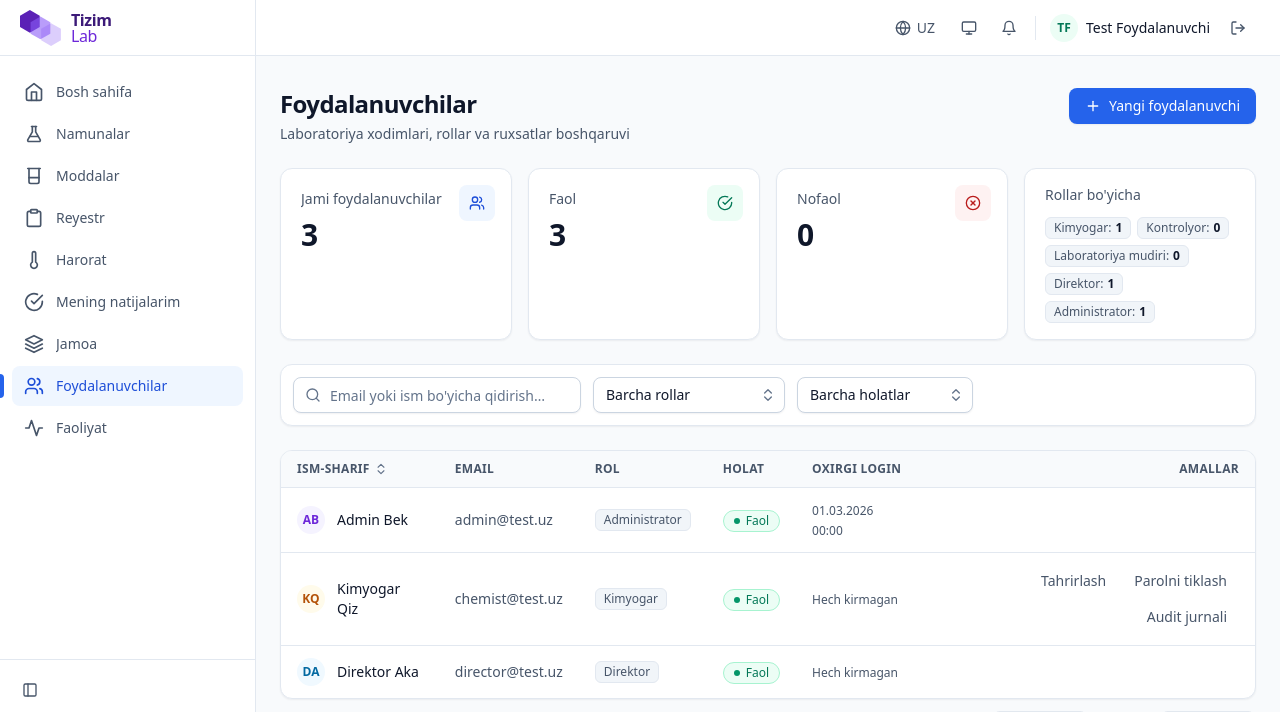
UsersPage & RBAC UI › lab_head: yaratishda faqat chemist/kontrolyor ruxsat etilgan, faqat ularni tahrirlay oladi
This screenshot has width=1280, height=712.
Expected: the heading "Foydalanuvchilar" is shown, [280,88,476,120]
Expected: the text "Kimyogar Qiz" is shown, [337,579,400,618]
Click the button "Yangi foydalanuvchi" at (1162, 106), box [1069,88,1256,124]
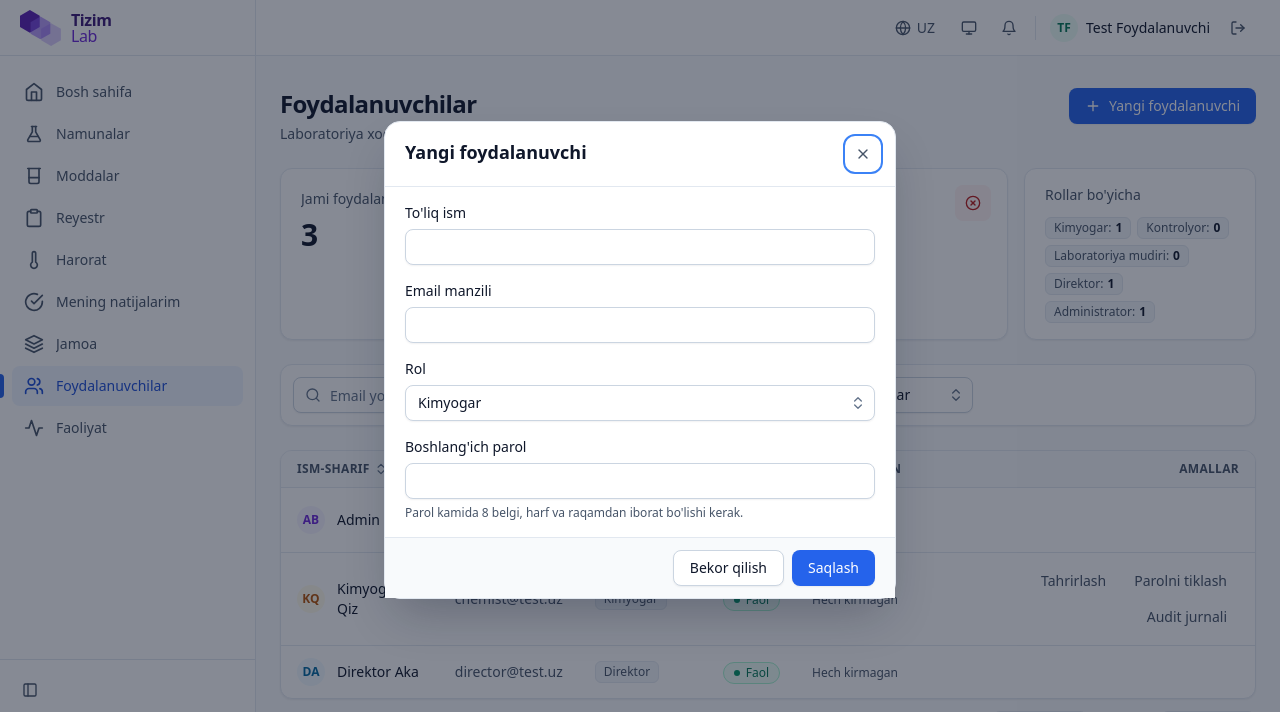
Expected: the heading "Yangi foydalanuvchi" is shown, [405,138,587,166]
Click the dropdown named "Rol" at (450, 402), box [405,385,875,421]
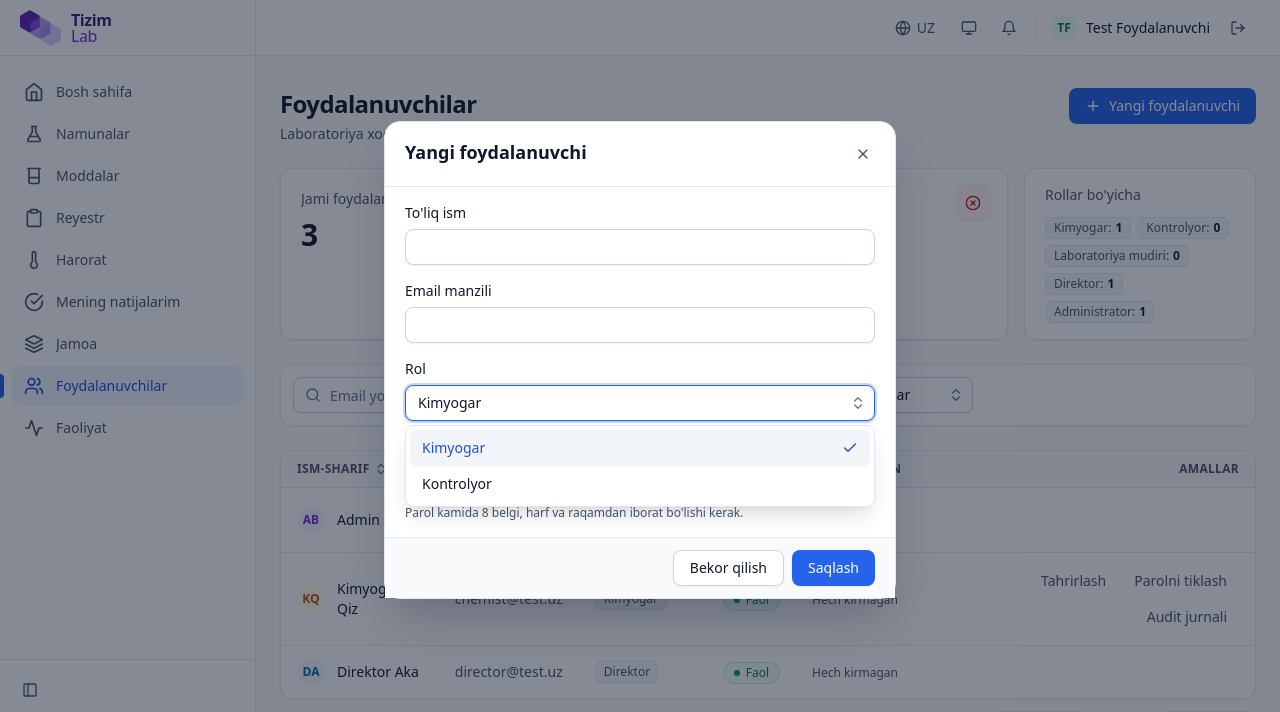
Press Escape
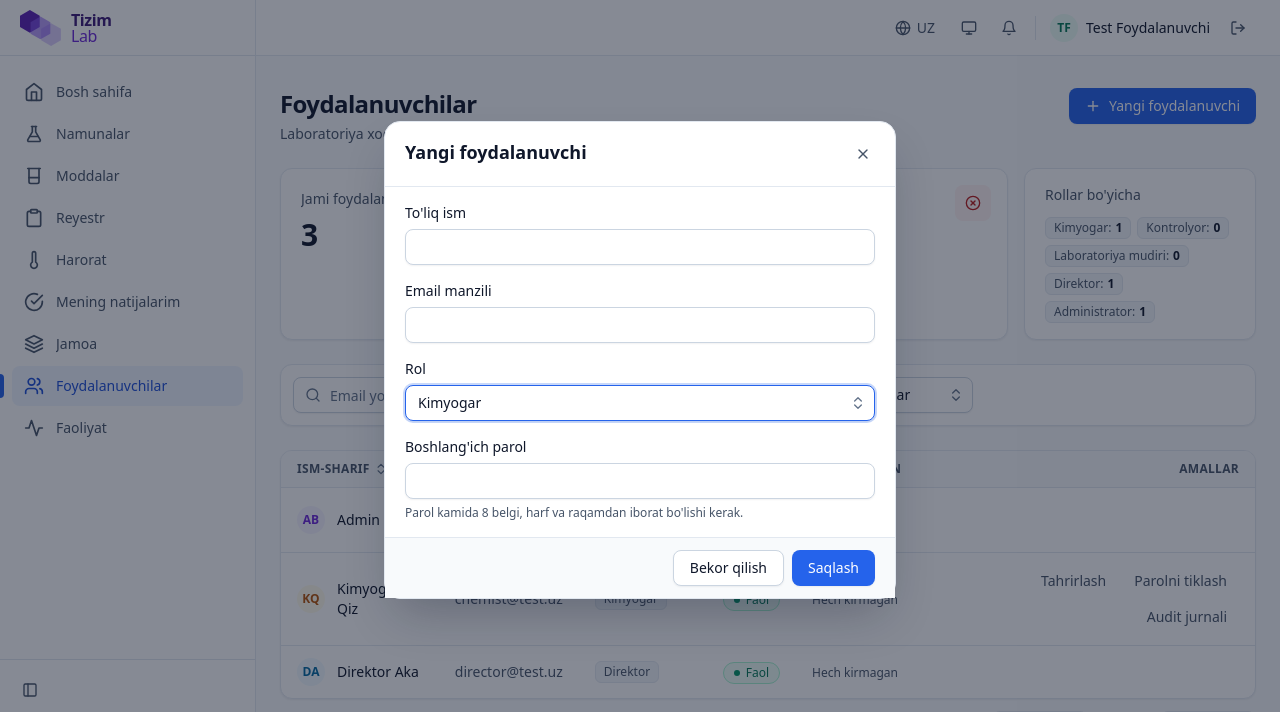
Click the button "Bekor qilish" at (728, 568), box [673,550,784,586]
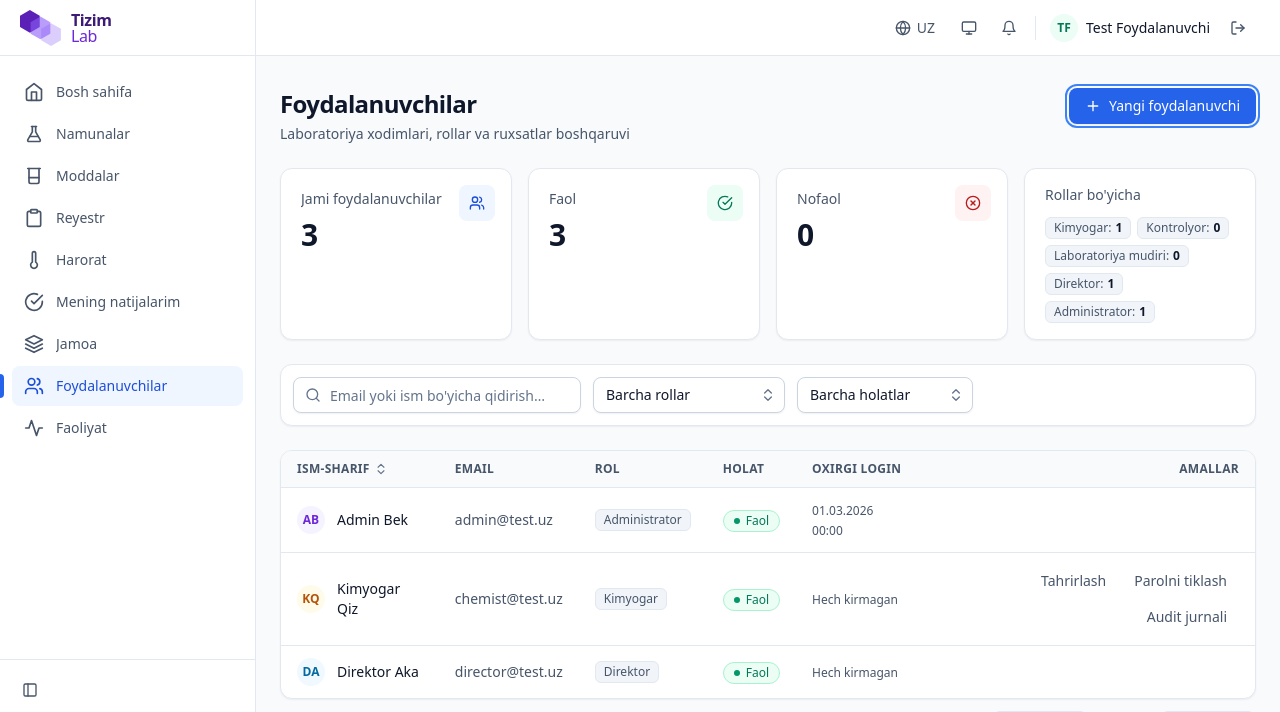
Expected: the number of buttons "Tahrirlash" is 1, [1029,565,1118,597]
